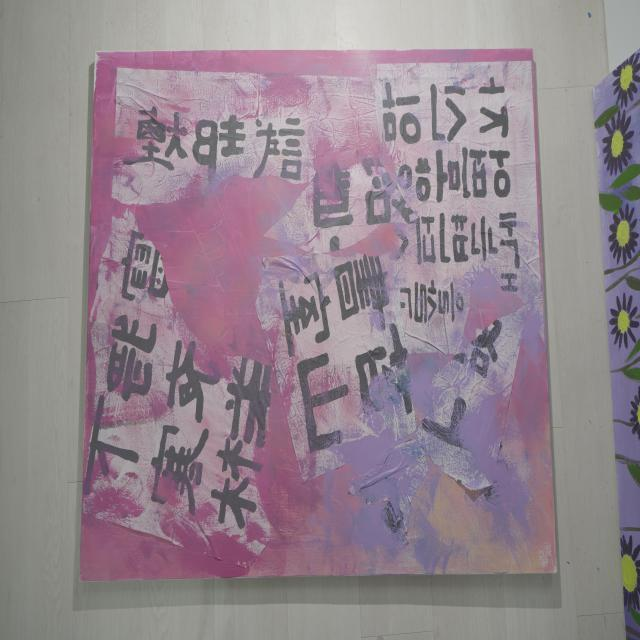painting: (81, 51, 555, 579), (592, 50, 639, 639)
